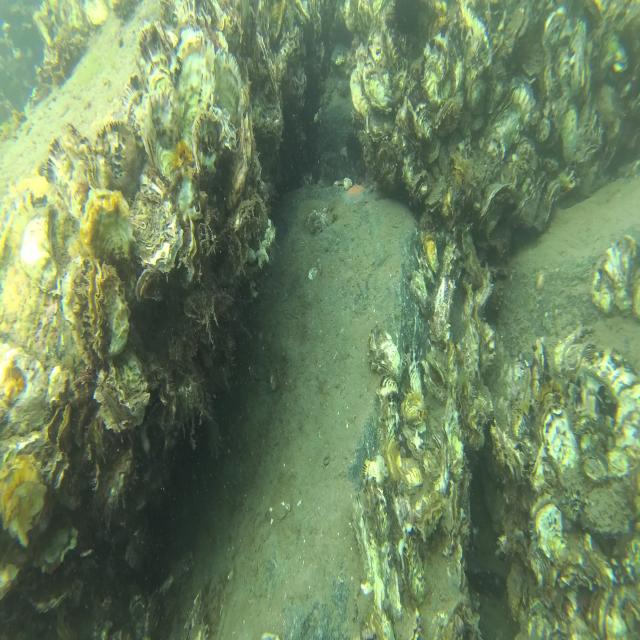echinus: (386, 0, 432, 47)
starfish: (341, 181, 375, 209)
